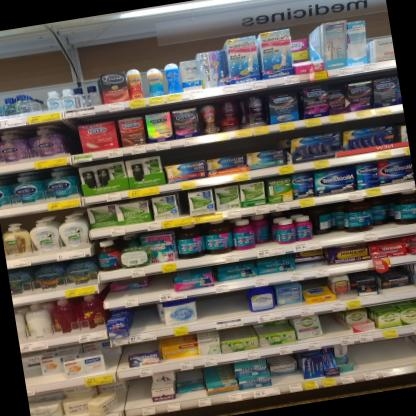empty_space: (353, 336, 414, 370), (193, 290, 245, 321), (121, 375, 156, 410), (131, 303, 160, 331), (142, 274, 172, 297), (106, 347, 128, 374), (104, 288, 140, 301), (319, 313, 338, 333), (271, 370, 298, 382), (23, 369, 38, 386)
